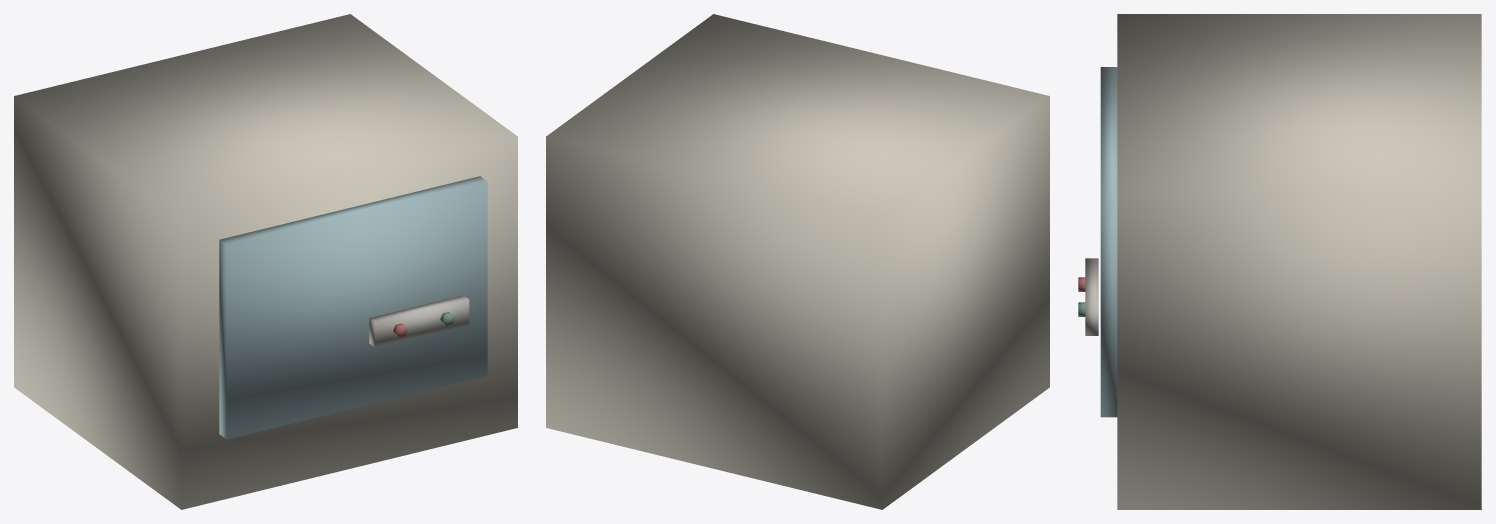
The model's file is crt_monitor.glb.
3 renders of one model, left to right at view 1: azimuth 30°, elevation 25°; view 2: azimuth 150°, elevation 25°; view 3: azimuth 270°, elevation 25°, orthographic. The views are drawn at different scales.
Visible parts, largest first — view 1: world; view 2: world; view 3: world.
Part boxes in pixels (<box>): world: <box>14,14,517,509</box>; world: <box>546,14,1049,509</box>; world: <box>1078,14,1481,509</box>.
Bounding box in the file's own units: 0.58 × 0.52 × 0.5535.
